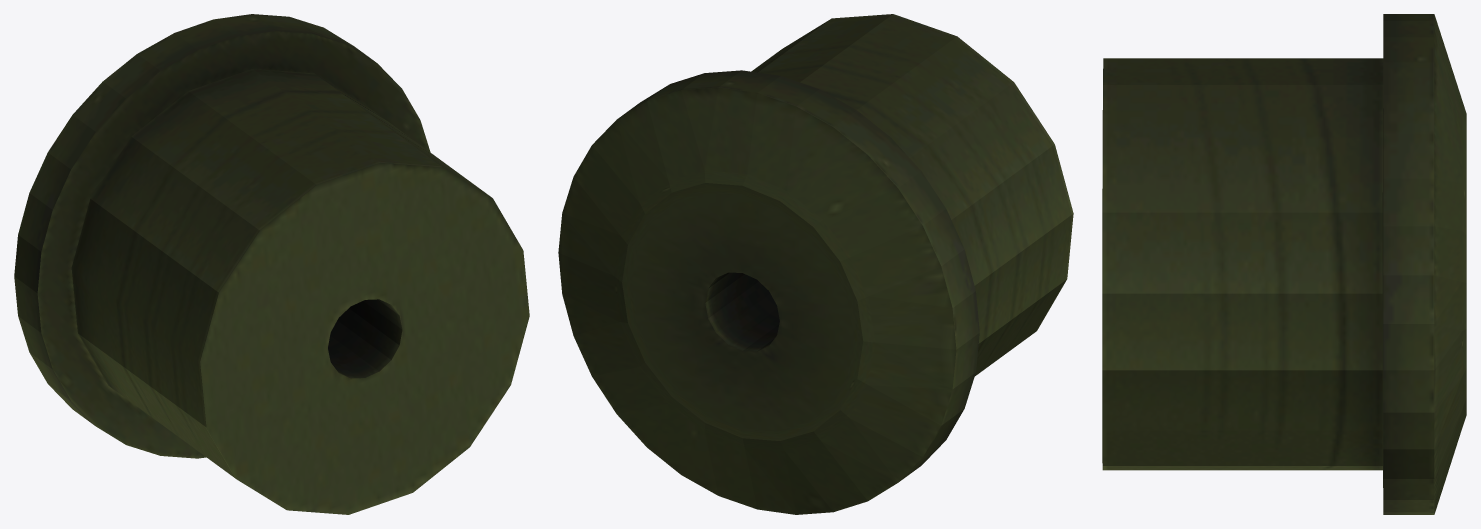
The picture shows the model from 3 angles, left to right: view 1: azimuth 30°, elevation 25°; view 2: azimuth 150°, elevation 25°; view 3: azimuth 270°, elevation 25°; orthographic projection. The views are drawn at different scales.
Parts seen in each view (by area): view 1: TW_58889c7324597754281f9439_PZ_Import; view 2: TW_58889c7324597754281f9439_PZ_Import; view 3: TW_58889c7324597754281f9439_PZ_Import.
Boxes of the visible parts, bbox=[...] form: TW_58889c7324597754281f9439_PZ_Import: bbox=[14, 14, 529, 514]; TW_58889c7324597754281f9439_PZ_Import: bbox=[558, 14, 1073, 514]; TW_58889c7324597754281f9439_PZ_Import: bbox=[1102, 14, 1466, 514].
Bounding box in the file's own units: 0.0279 × 0.0203 × 0.0279.
1 material, 1 textured.
